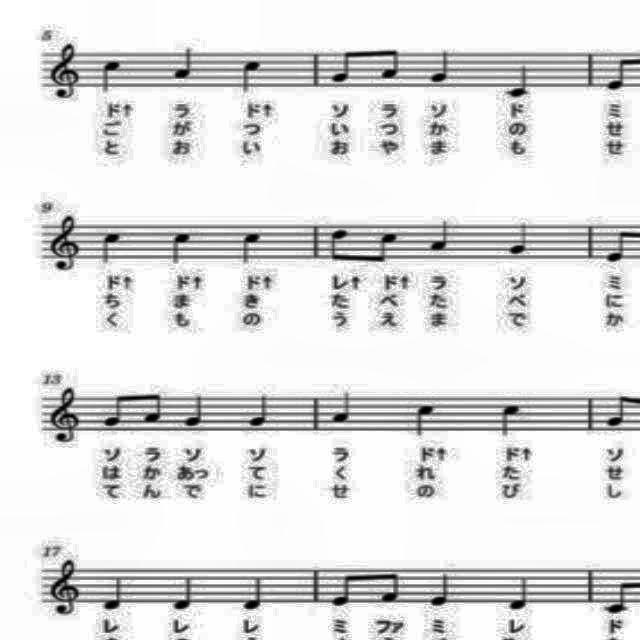Eighth-note: (600, 564, 636, 618), (327, 562, 365, 612), (600, 48, 636, 96), (134, 380, 168, 430), (97, 382, 131, 432), (374, 560, 406, 612), (604, 384, 638, 432), (326, 215, 356, 269), (604, 216, 634, 270), (326, 42, 362, 86), (370, 222, 402, 270), (373, 44, 402, 86)
Quarter-note: (326, 384, 358, 428), (237, 570, 269, 614), (504, 218, 538, 258), (168, 226, 200, 268), (180, 391, 212, 433), (506, 570, 534, 618), (245, 388, 275, 432), (170, 44, 202, 84), (236, 226, 268, 266), (426, 43, 456, 85), (100, 570, 128, 614), (504, 63, 536, 101), (98, 227, 126, 270), (425, 570, 455, 610), (495, 400, 525, 438), (98, 58, 126, 98), (238, 56, 266, 96), (426, 216, 454, 254), (172, 574, 200, 612), (413, 402, 441, 438)
Treble-clef: (42, 384, 88, 454), (45, 554, 91, 620), (43, 39, 85, 107), (42, 212, 86, 276)
